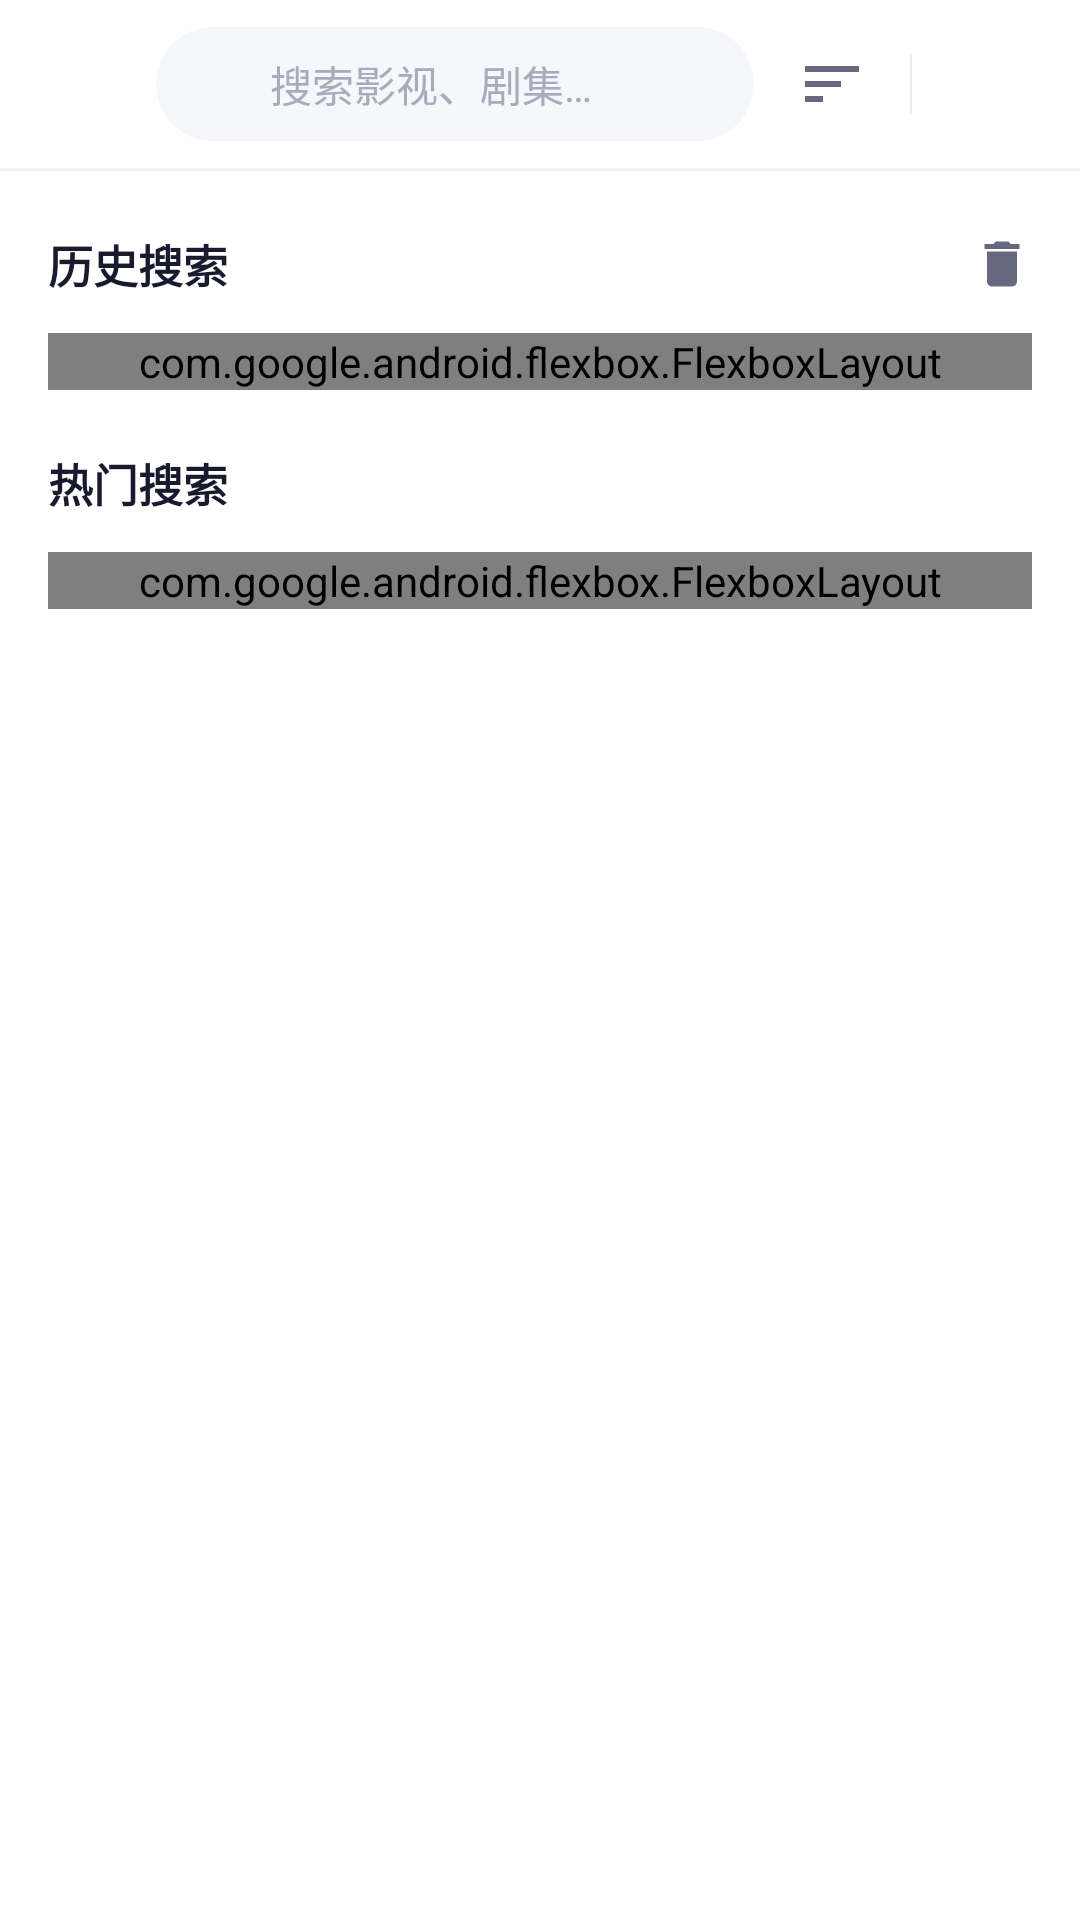

Locate icon controls on the screen. Image size 1080px×1920px, boxes as bbox(x1, y1, x2, y2).
delete: bbox(984, 241, 1020, 287)
filter: bbox(805, 66, 859, 102)
